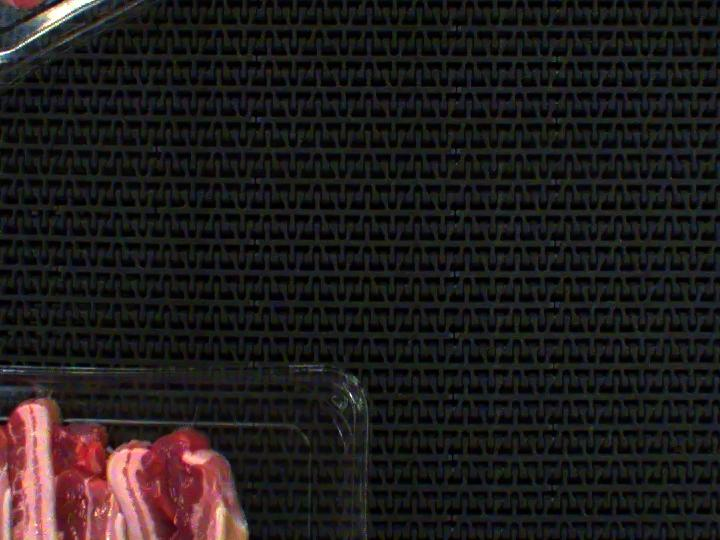packaging-error: (22, 378, 63, 403)
